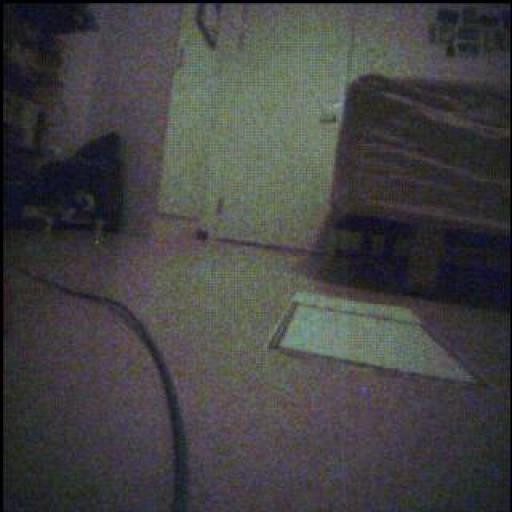pad: (270, 294, 476, 383)
